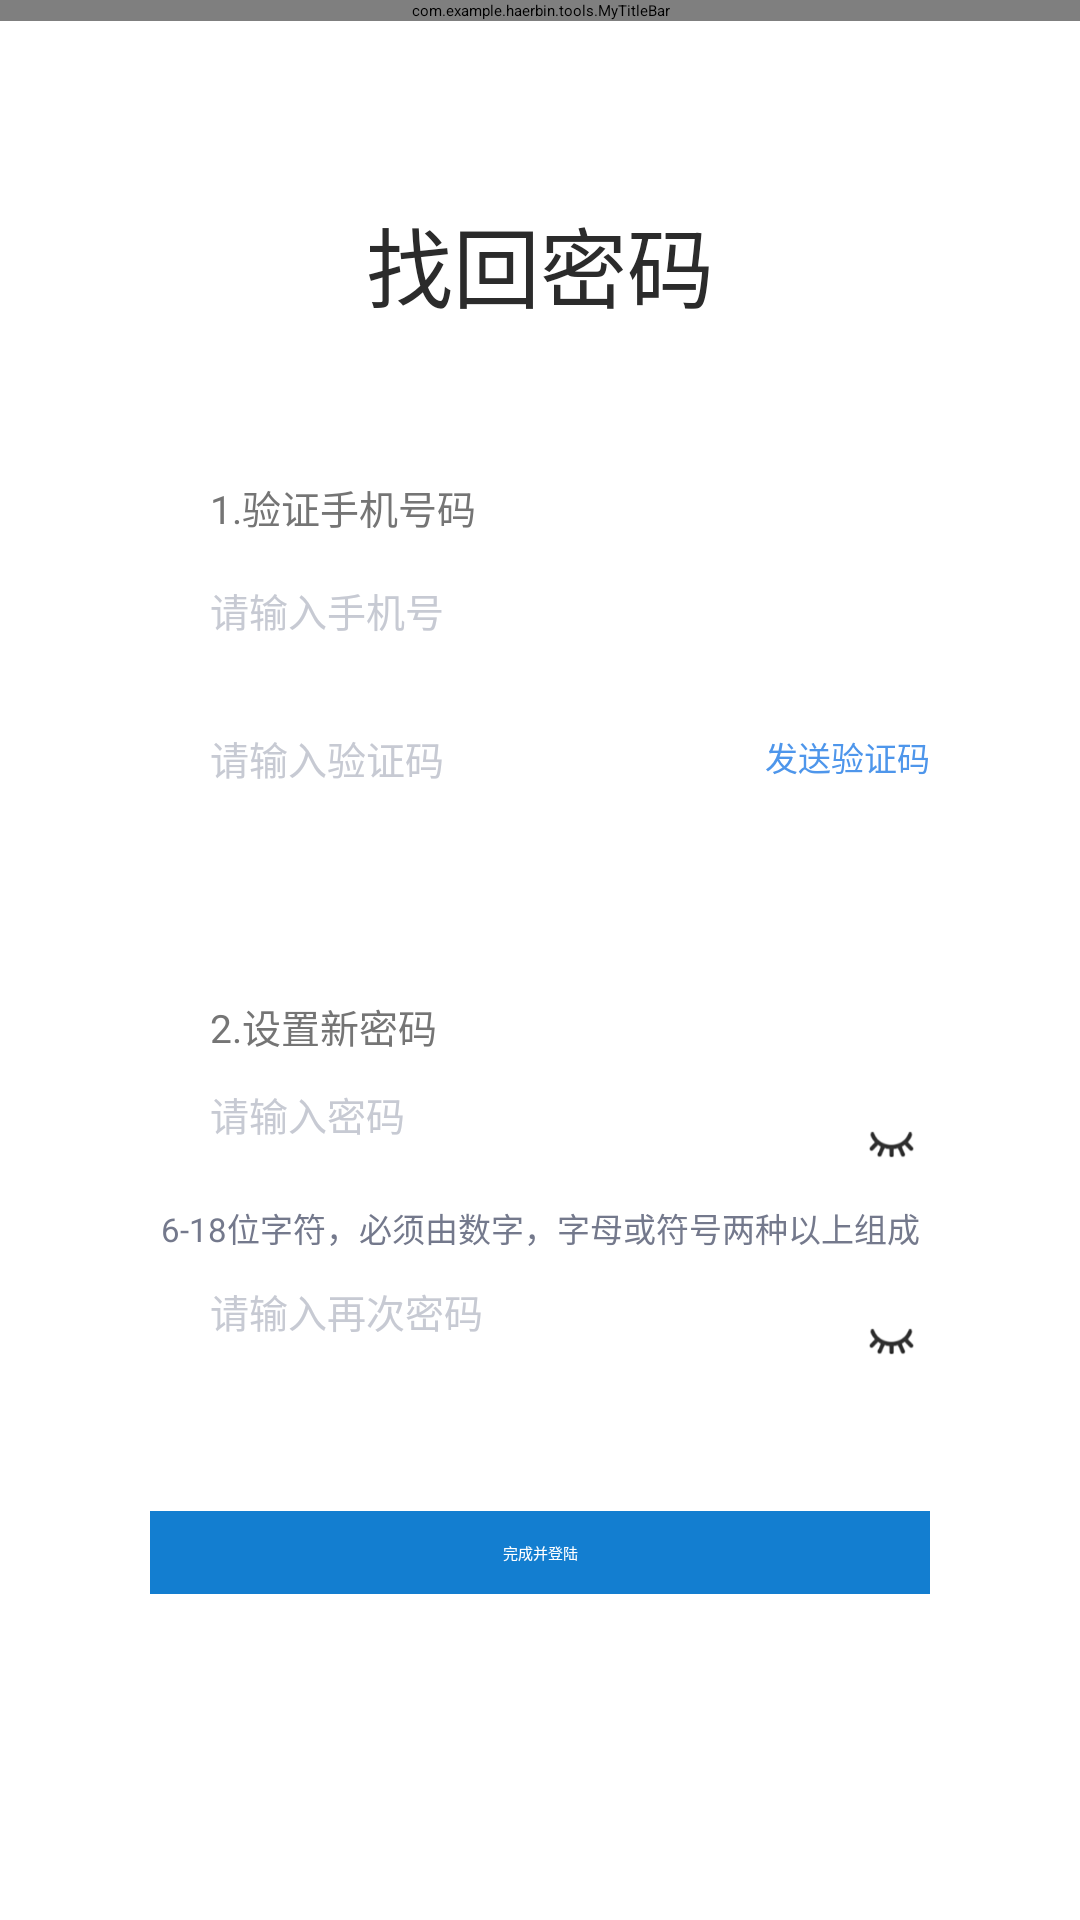

Where icons sit on this 1080*1920 app screen, as box(x1, y1, x2, y2):
eye off: box(869, 1131, 914, 1158), box(869, 1328, 914, 1355)
